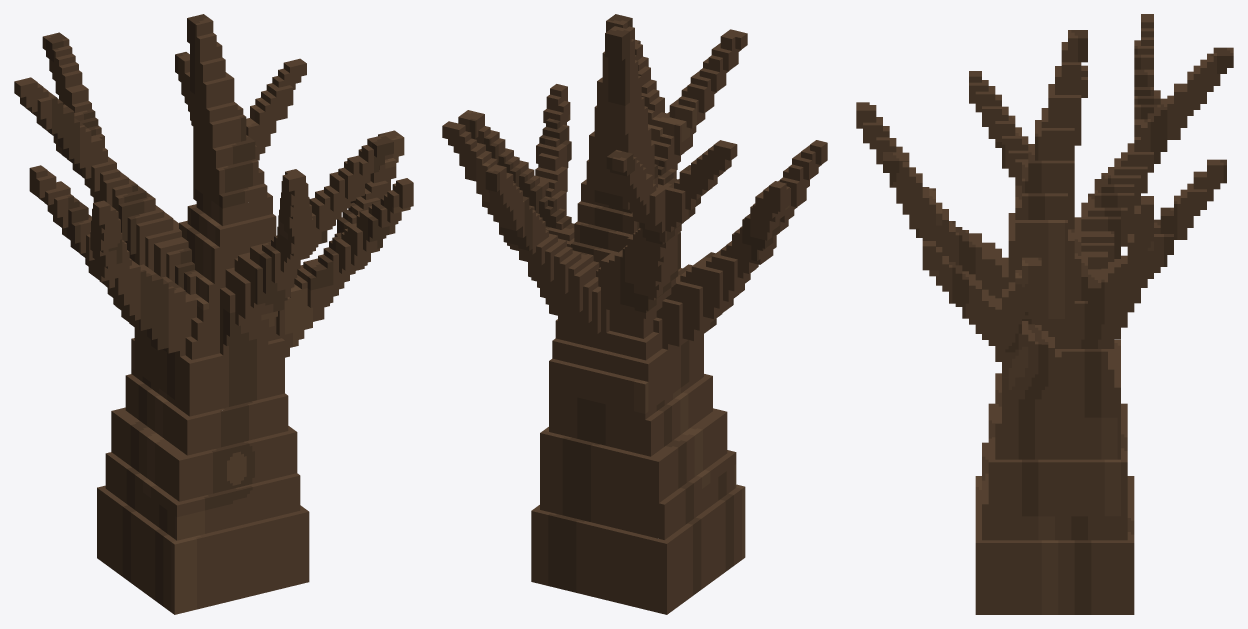
Rendered from apple_mature_winter_2.glb.
The picture shows the model from 3 angles, left to right: view 1: azimuth 30°, elevation 25°; view 2: azimuth 150°, elevation 25°; view 3: azimuth 270°, elevation 25°; orthographic projection. The views are drawn at different scales.
Visible parts, largest first — view 1: VoxelVisual; view 2: VoxelVisual; view 3: VoxelVisual.
Boxes of the visible parts, x1,y1,x2,y2 form: VoxelVisual: (14, 14, 413, 614); VoxelVisual: (442, 14, 827, 614); VoxelVisual: (856, 14, 1233, 614).
Size of what is drawn, in the model's own units: 7.62 by 11.5 by 7.12.
